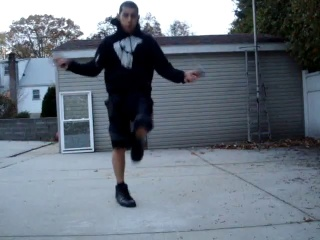person: (51, 2, 205, 211)
